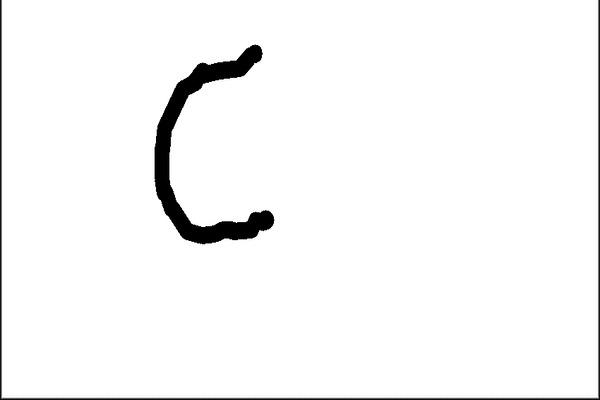C: (146, 37, 297, 246)
